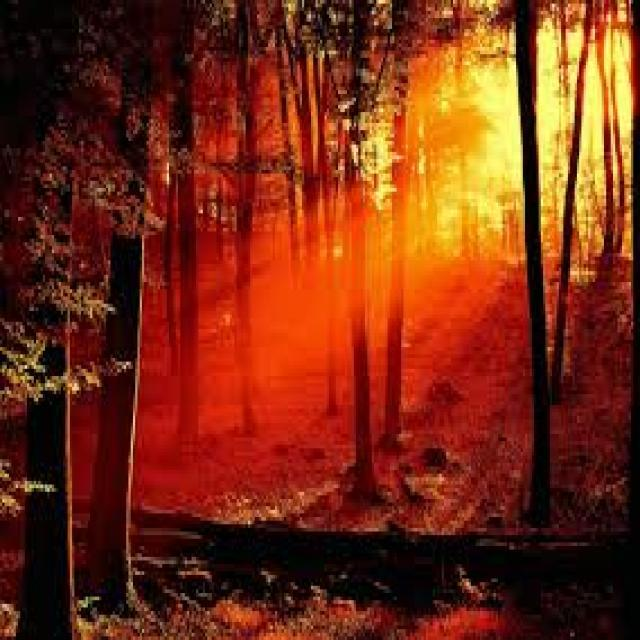Fire: (444, 41, 634, 283), (340, 88, 408, 225), (323, 237, 360, 266), (216, 302, 234, 335)
